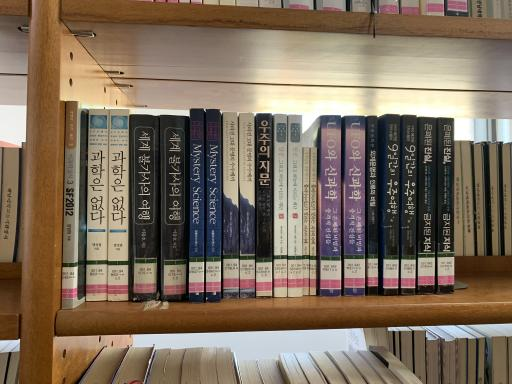book-spine: (131, 114, 159, 302), (161, 115, 189, 301), (86, 108, 109, 301), (109, 109, 130, 301), (344, 116, 365, 296), (321, 115, 341, 296), (61, 101, 78, 309), (419, 117, 436, 293), (437, 117, 454, 293), (223, 112, 239, 298), (256, 113, 272, 298), (189, 108, 204, 303), (240, 113, 255, 298), (288, 114, 303, 297), (207, 108, 221, 302), (385, 114, 400, 294), (402, 114, 417, 294), (274, 114, 287, 297), (368, 116, 378, 295), (302, 147, 309, 296), (309, 148, 316, 296)
